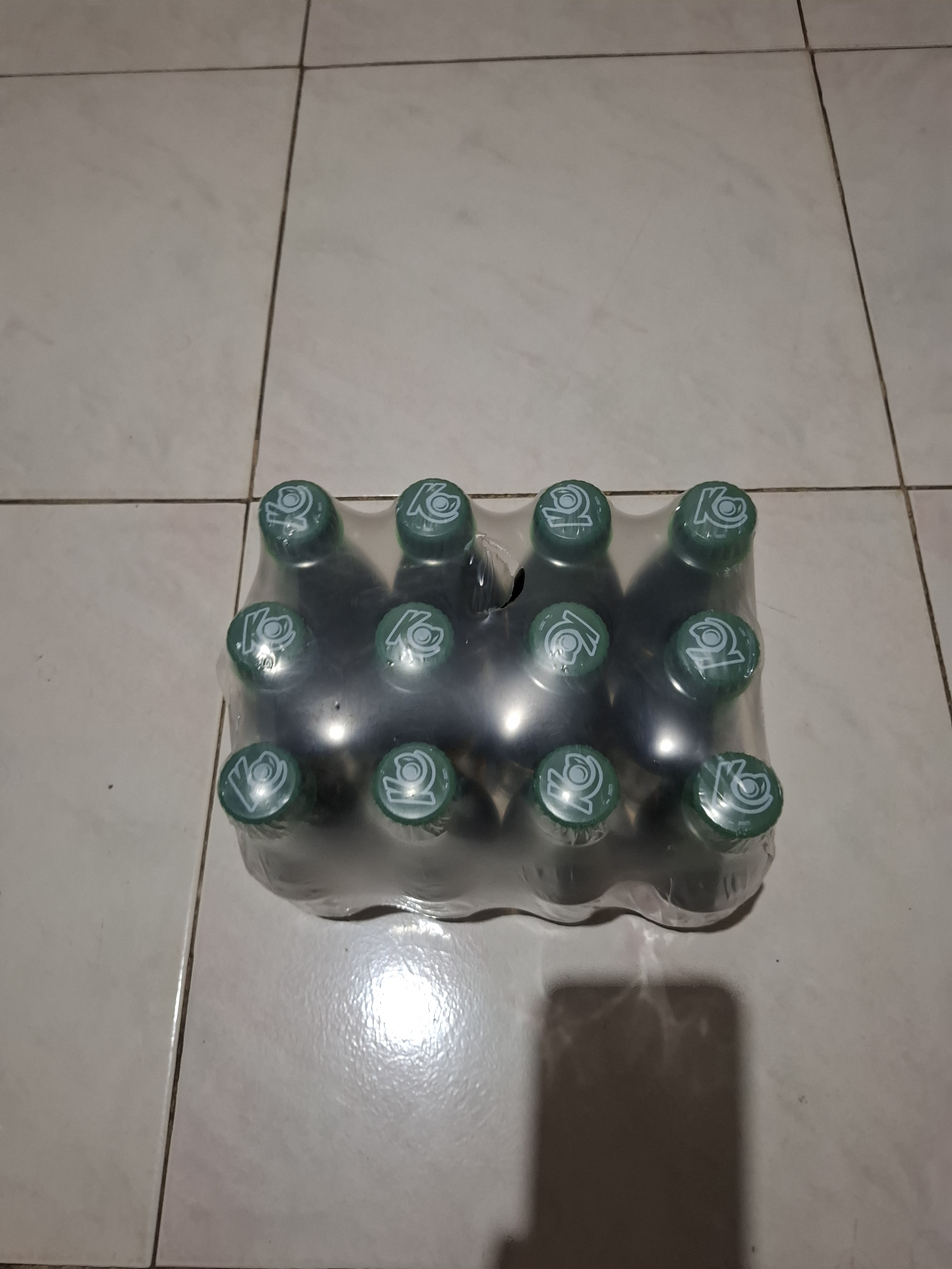Tampa Refrigerante Kuat: (691, 746, 787, 840), (674, 603, 764, 700), (532, 734, 619, 832), (224, 600, 316, 689), (376, 599, 460, 694), (215, 739, 303, 826), (529, 596, 614, 686), (672, 477, 761, 558), (530, 477, 613, 563), (257, 477, 339, 560), (395, 471, 474, 557), (375, 737, 453, 824)
